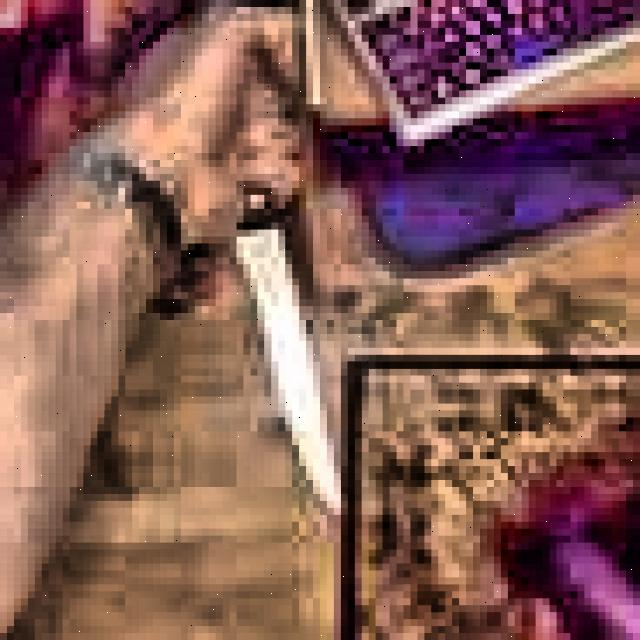knife: (240, 203, 341, 521)
